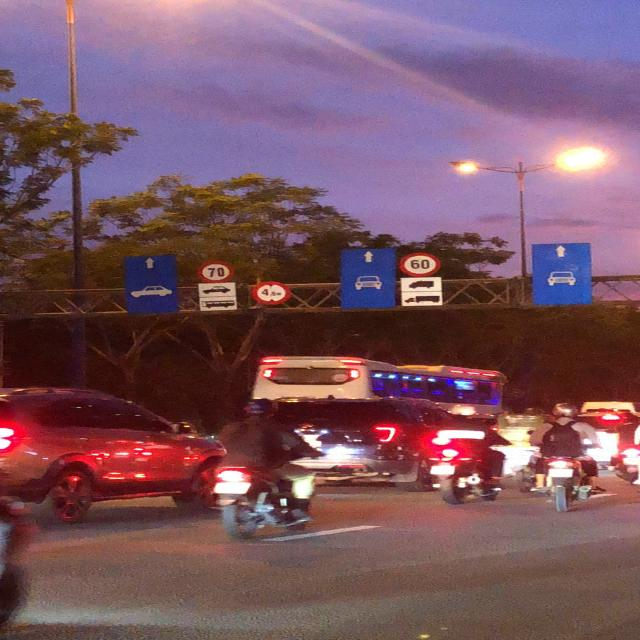Bien bao han che chieu cao: (250, 278, 295, 308)
Bien bao toc do toi da cho phep: (397, 250, 448, 278), (194, 259, 241, 285)
